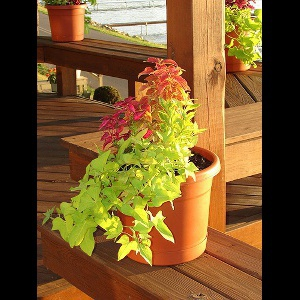flowerpot: (113, 142, 222, 265)
